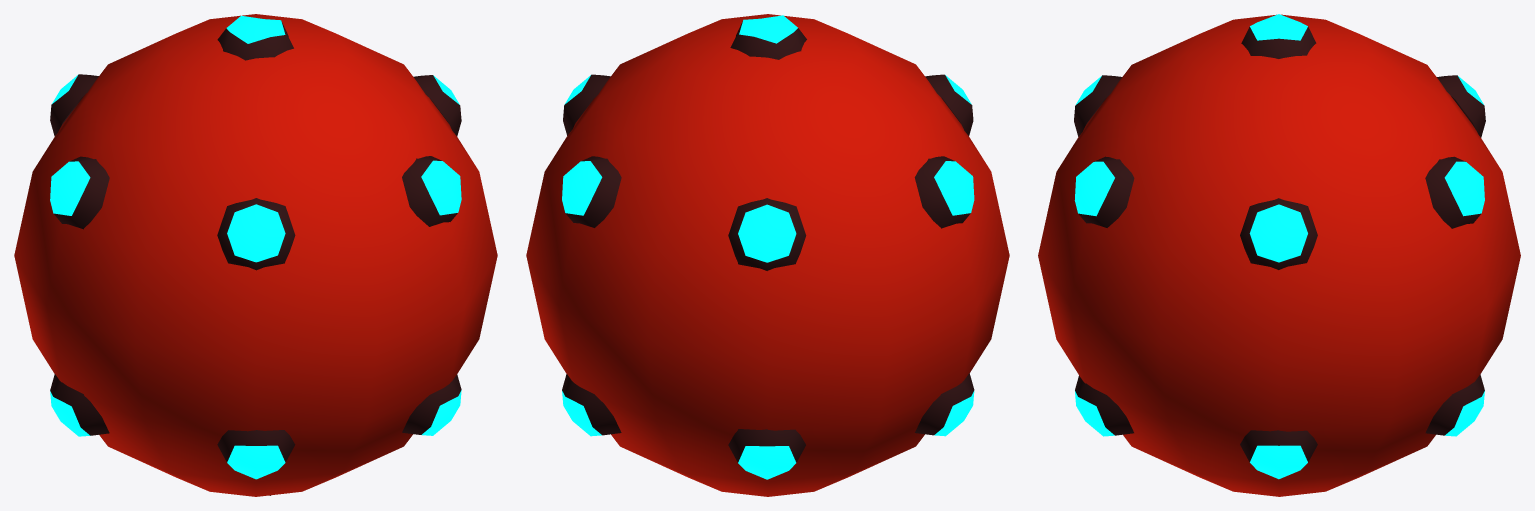
Rendered from AerialMine.fbx.
3 views of the same model, side by side, from view 1: azimuth 30°, elevation 25°; view 2: azimuth 150°, elevation 25°; view 3: azimuth 270°, elevation 25° (orthographic).
Parts seen in each view (by area): view 1: AerialMine_LOD0; view 2: AerialMine_LOD0; view 3: AerialMine_LOD0.
Part boxes in pixels (box(x1,y1,x2,y2)): AerialMine_LOD0: box(14, 14, 497, 496); AerialMine_LOD0: box(526, 14, 1009, 496); AerialMine_LOD0: box(1038, 14, 1520, 496).
Size of what is drawn, in the model's own units: 200 by 215 by 200.
